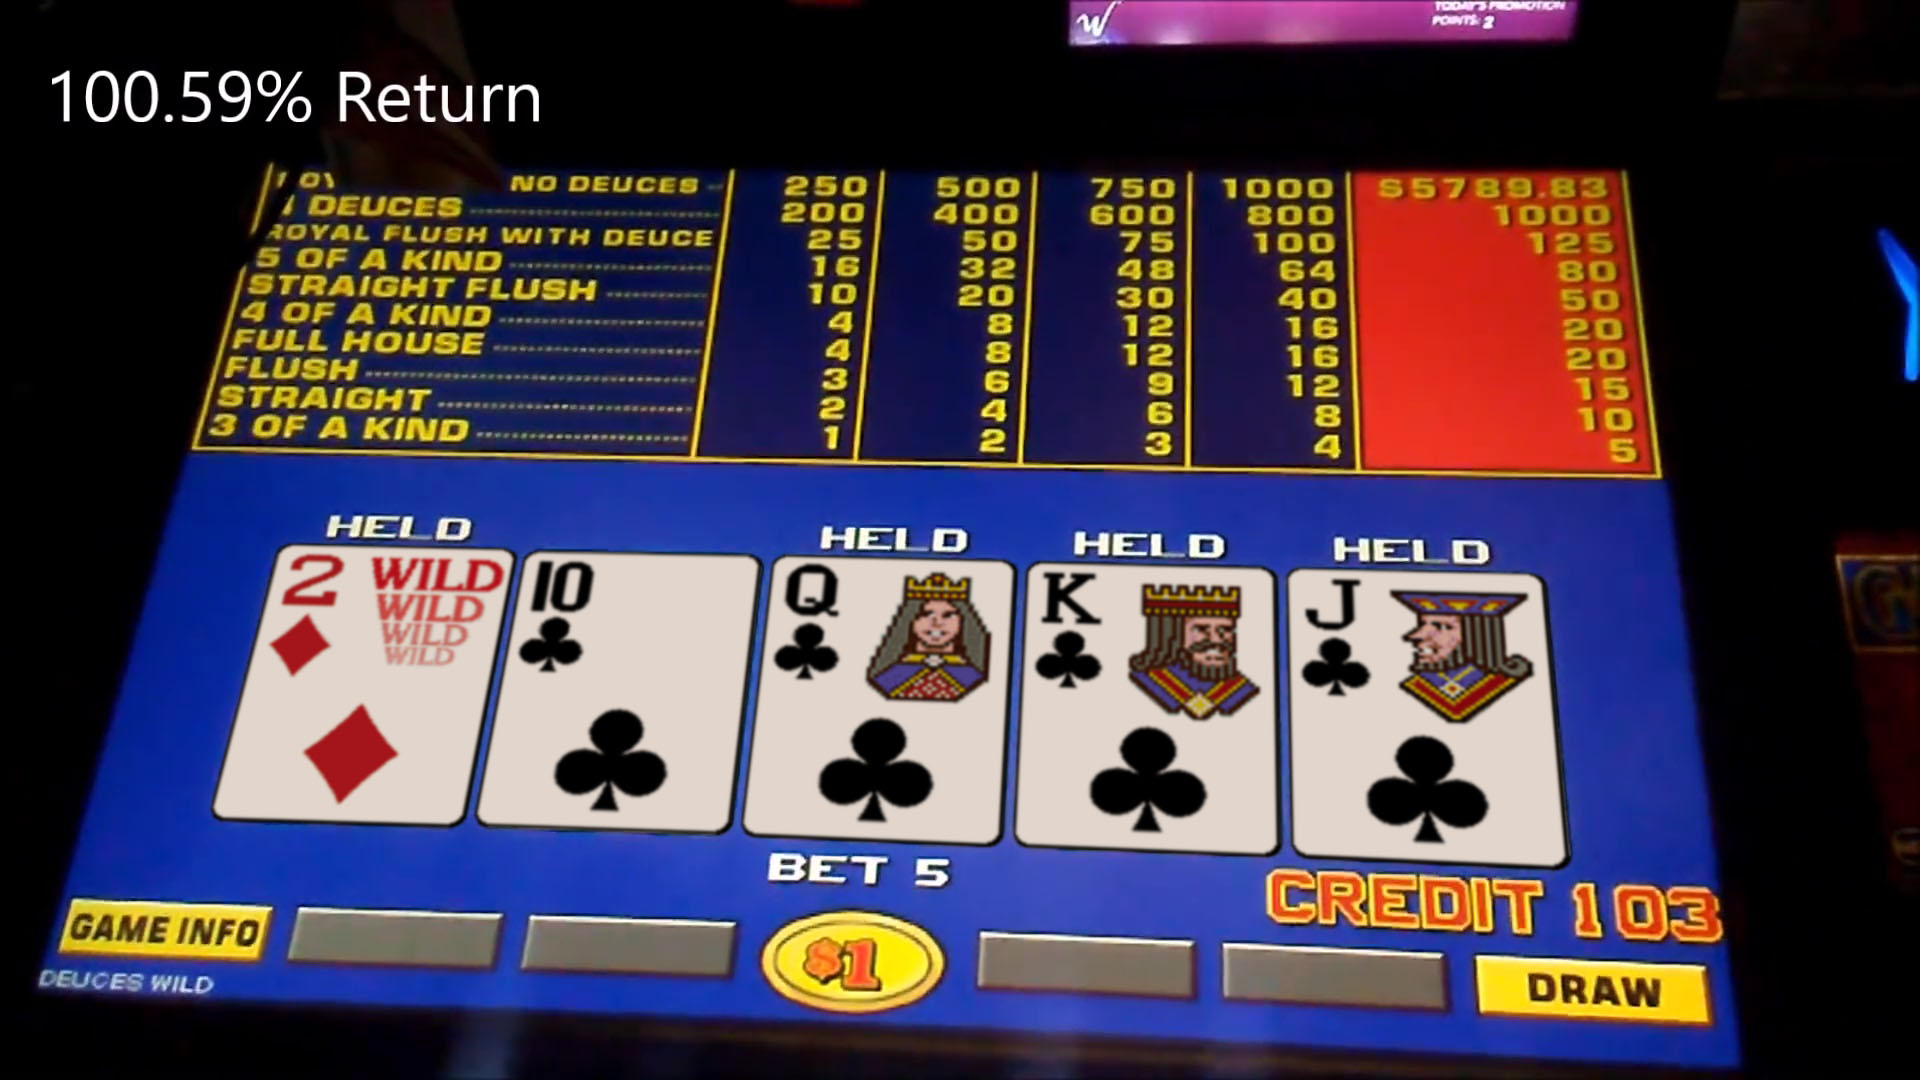CJ: (1294, 575, 1553, 855)
CK: (1029, 564, 1270, 853)
CQ: (771, 558, 997, 843)
CT: (522, 553, 735, 828)
D2W: (265, 549, 472, 819)
